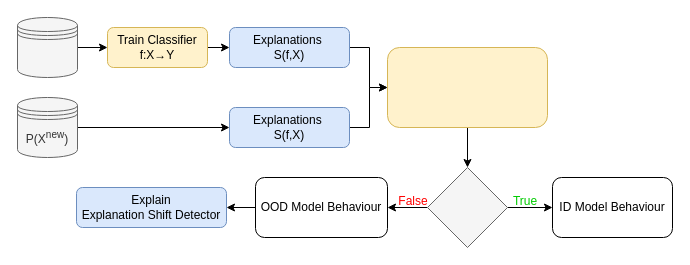
Some shapes in this 690 by 265 pixel diagram are drawn without their labels. Each missing label, with the centre of its shape:
"H o : AUC = 0.5" belongs at (x=467, y=207).
"P(X,Y)" belongs at (x=47, y=47).
"Train Explanation Shift Detector g:R d →{ID,New}" belongs at (x=467, y=87).
